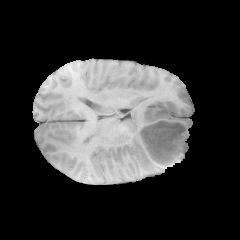glioma: (128, 99, 191, 171)
